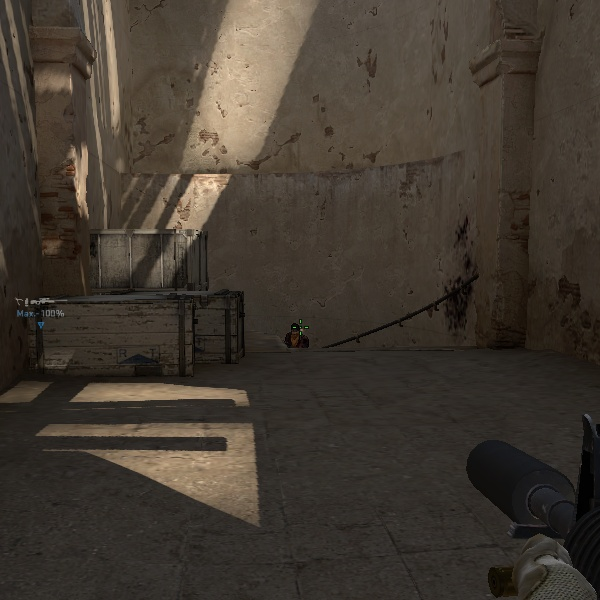t_body: (281, 321, 311, 351)
t_head: (287, 322, 304, 339)
